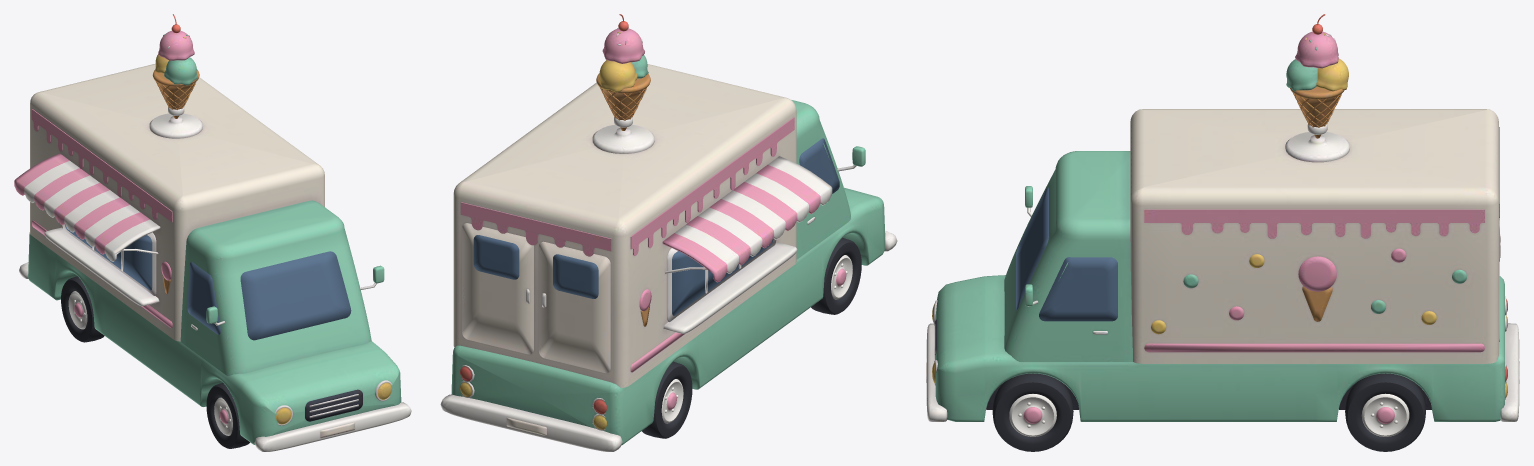
The model's file is ice-cream-truck.glb.
3 views of the same model, side by side, from view 1: azimuth 30°, elevation 25°; view 2: azimuth 150°, elevation 25°; view 3: azimuth 270°, elevation 25° (orthographic). The views are drawn at different scales.
Visible parts, largest first — view 1: ice-cream-truck_body, ice-cream-truck_windows, ice-cream-truck_wheel_fr, ice-cream-truck_wheel_rr; view 2: ice-cream-truck_body, ice-cream-truck_rear_windows, ice-cream-truck_windows, ice-cream-truck_wheel_rr, ice-cream-truck_wheel_fr; view 3: ice-cream-truck_body, ice-cream-truck_windows, ice-cream-truck_wheel_rl, ice-cream-truck_wheel_fl.
Boxes of the visible parts, left/top/right/bottom form: ice-cream-truck_body: left=14, top=14, right=411, bottom=451; ice-cream-truck_windows: left=65, top=224, right=351, bottom=340; ice-cream-truck_wheel_fr: left=206, top=383, right=249, bottom=448; ice-cream-truck_wheel_rr: left=61, top=276, right=104, bottom=342; ice-cream-truck_body: left=440, top=14, right=897, bottom=451; ice-cream-truck_rear_windows: left=473, top=235, right=598, bottom=298; ice-cream-truck_windows: left=672, top=138, right=839, bottom=315; ice-cream-truck_wheel_rr: left=642, top=361, right=692, bottom=438; ice-cream-truck_wheel_fr: left=811, top=237, right=861, bottom=314; ice-cream-truck_body: left=926, top=14, right=1519, bottom=421; ice-cream-truck_windows: left=1016, top=187, right=1117, bottom=321; ice-cream-truck_wheel_rl: left=1345, top=373, right=1425, bottom=451; ice-cream-truck_wheel_fl: left=992, top=373, right=1073, bottom=451.
Size of the model in its own units: 2.88 by 4.33 by 5.86.
Materials: 15 (1 with a texture image).
